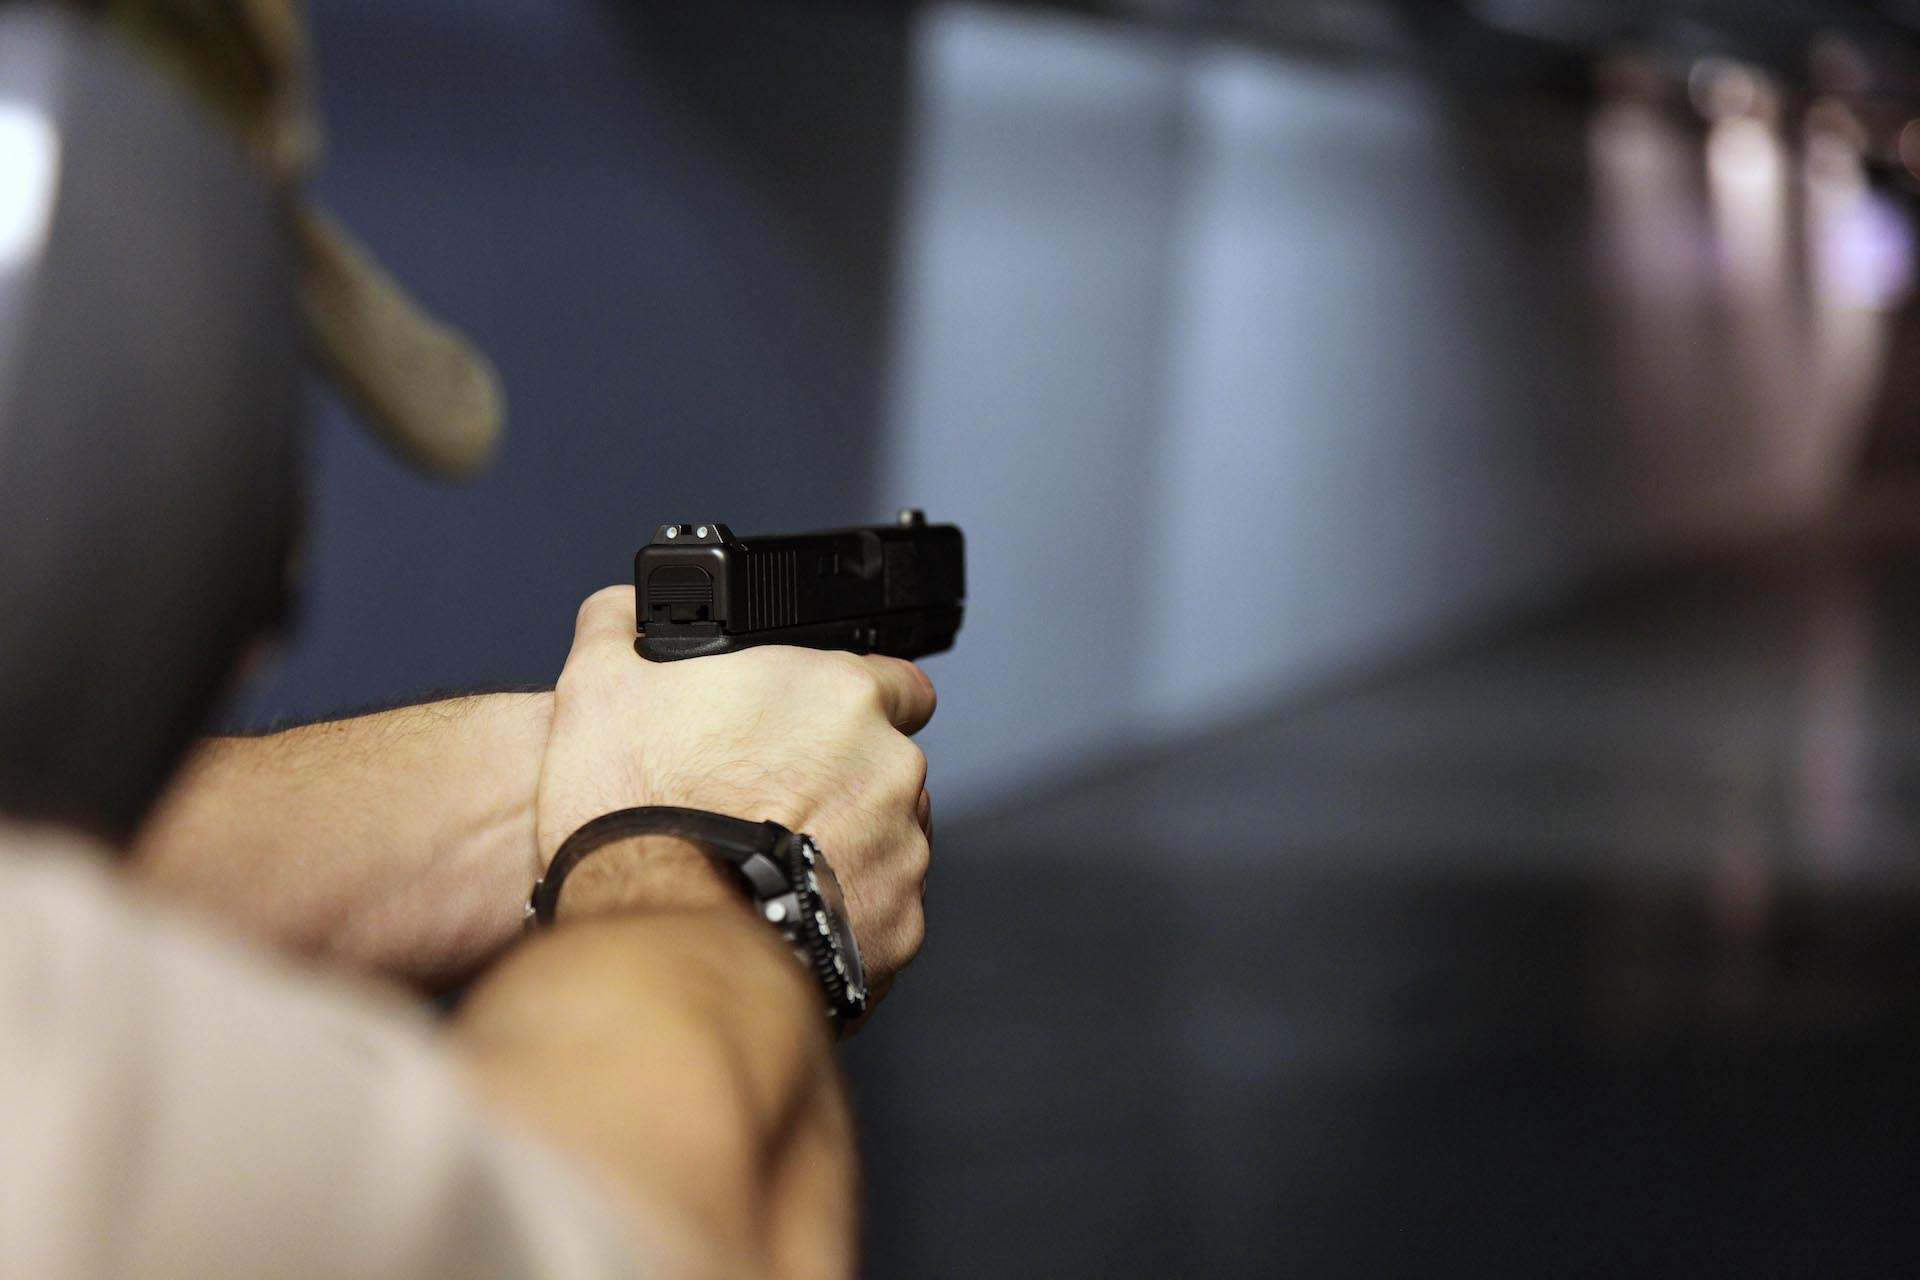pistol: (631, 509, 970, 664)
